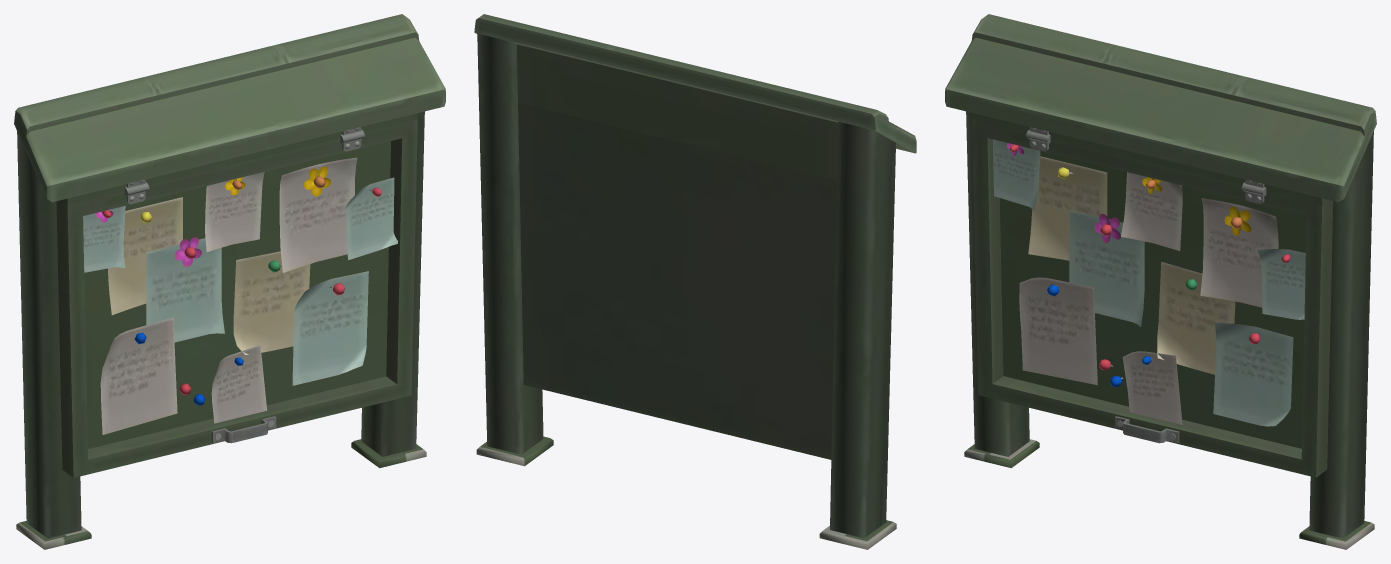
Rendered from catch-board.glb.
3 views of the same model, side by side, from view 1: azimuth 30°, elevation 25°; view 2: azimuth 150°, elevation 25°; view 3: azimuth 330°, elevation 25° (orthographic). The views are drawn at different scales.
Visible parts, largest first — view 1: EvtobjBbs_node1; view 2: EvtobjBbs_node1; view 3: EvtobjBbs_node1.
Boxes of the visible parts, left/top/right/bottom form: EvtobjBbs_node1: left=14, top=14, right=445, bottom=549; EvtobjBbs_node1: left=474, top=14, right=916, bottom=549; EvtobjBbs_node1: left=945, top=14, right=1376, bottom=549.
Size of the model in its own units: 1.7 by 1.72 by 0.3088.
Materials: 1 (1 with a texture image).
